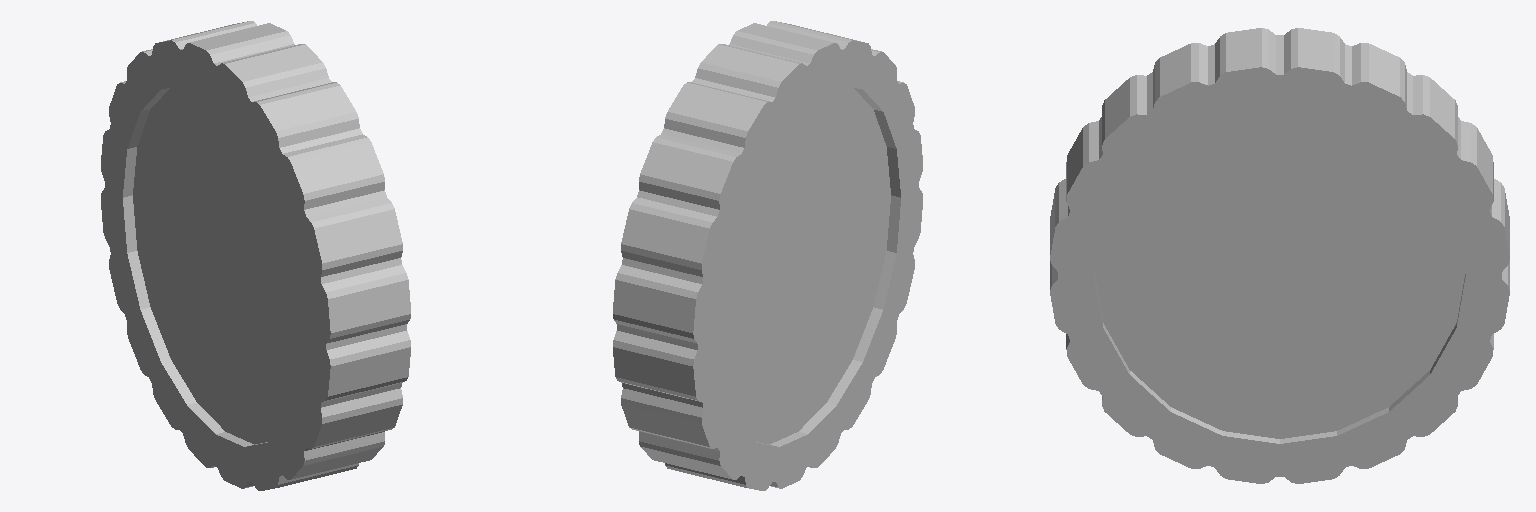
The model's file is coin.obj.
The picture shows the model from 3 angles: view 1: azimuth 30°, elevation 25°; view 2: azimuth 150°, elevation 25°; view 3: azimuth 270°, elevation 25°; orthographic projection.
Parts seen in each view (by area): view 1: pCylinder1; view 2: pCylinder1; view 3: pCylinder1.
Part boxes in pixels (x1,y1,x2,y2): pCylinder1: (101, 21, 410, 490); pCylinder1: (613, 21, 922, 490); pCylinder1: (1050, 28, 1509, 483).
Bounding box in the file's own units: 0.4 × 1.98 × 1.98.